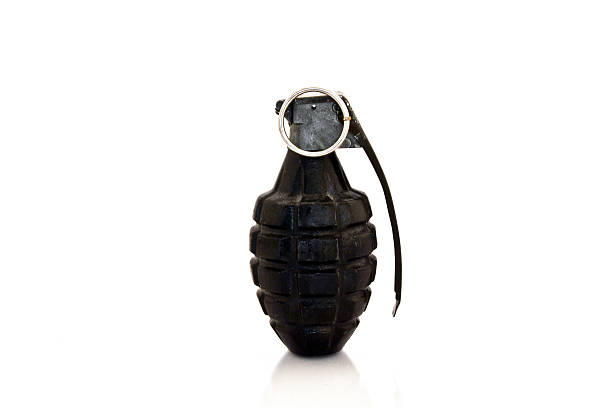e1: (247, 86, 403, 357)
